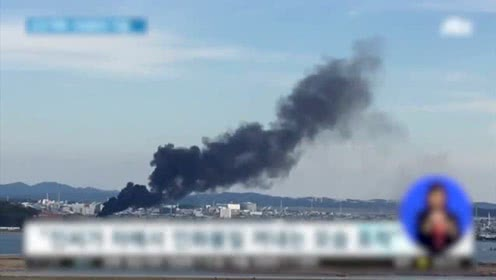smoke: (96, 43, 385, 216)
